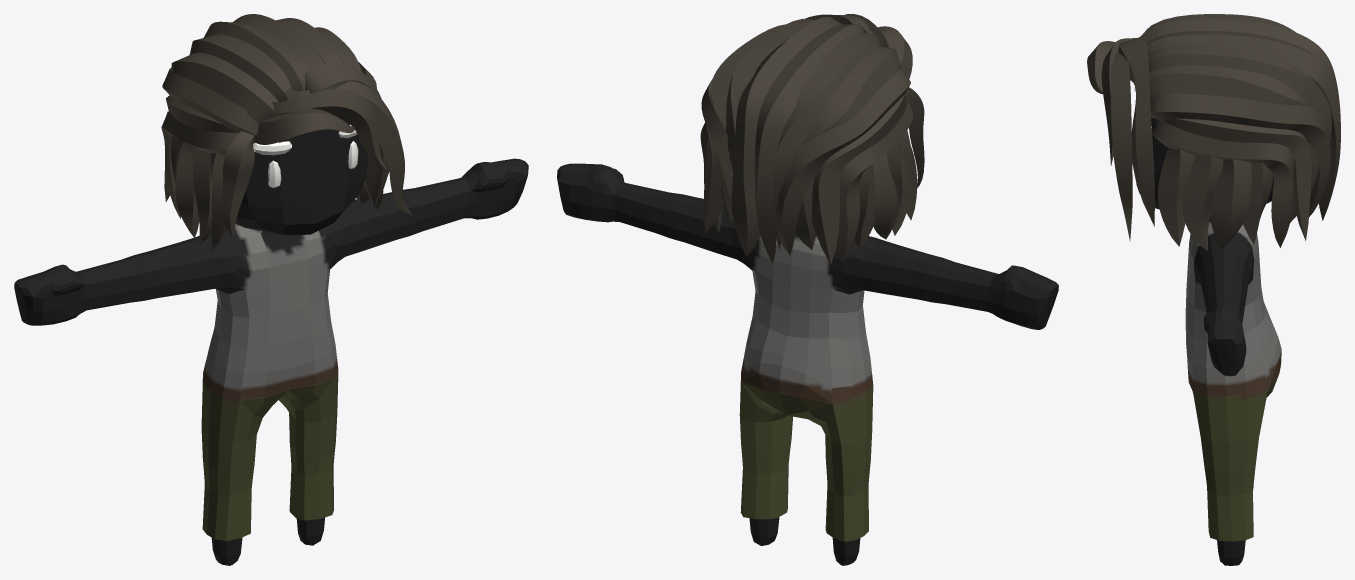
The model's file is Casual3_Female.fbx.
3 views of the same model, side by side, from view 1: azimuth 30°, elevation 25°; view 2: azimuth 150°, elevation 25°; view 3: azimuth 270°, elevation 25° (orthographic). The views are drawn at different scales.
Parts seen in each view (by area): view 1: Body; view 2: Body; view 3: Body.
Part boxes in pixels (bbox=[...]): Body: bbox=[14, 14, 528, 565]; Body: bbox=[557, 14, 1058, 565]; Body: bbox=[1087, 14, 1340, 565].
Size of the model in its own units: 324 by 320 by 142.
1 material, 1 textured.
